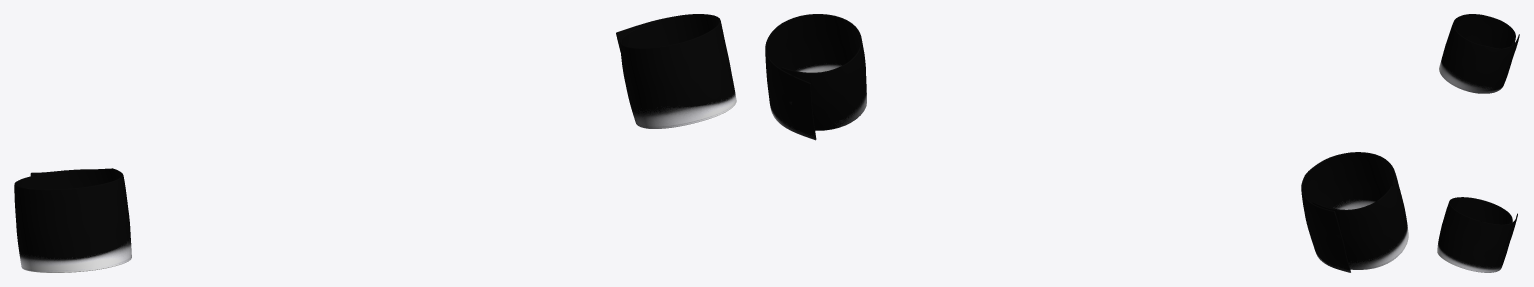
The model's file is chenshanliukou.FBX.
3 views of the same model, side by side, from view 1: azimuth 30°, elevation 25°; view 2: azimuth 150°, elevation 25°; view 3: azimuth 270°, elevation 25° (orthographic). The views are drawn at different scales.
Parts seen in each view (by area): view 1: default014; view 2: default014; view 3: default014.
Part boxes in pixels (bbox=[...]): default014: bbox=[14, 14, 736, 272]; default014: bbox=[765, 14, 1408, 272]; default014: bbox=[1437, 14, 1519, 272].
Bounding box in the file's own units: 49.38 × 6.99 × 8.07.
